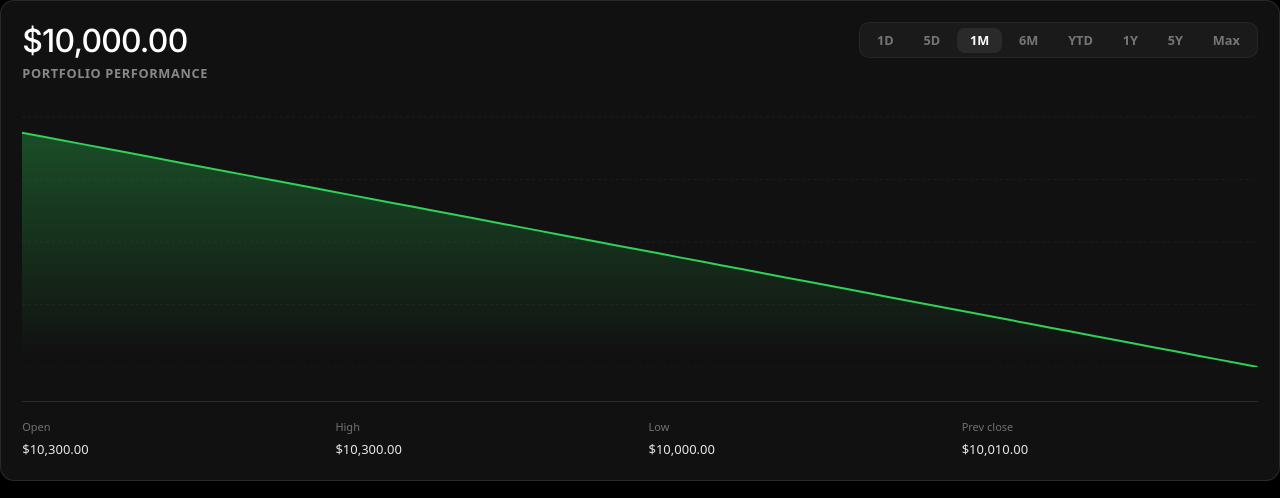
Test: PerformanceChart › filters data based on selected time range
Click the button "Max" at [1226, 40], box x1=1200 y1=28 x2=1252 y2=53
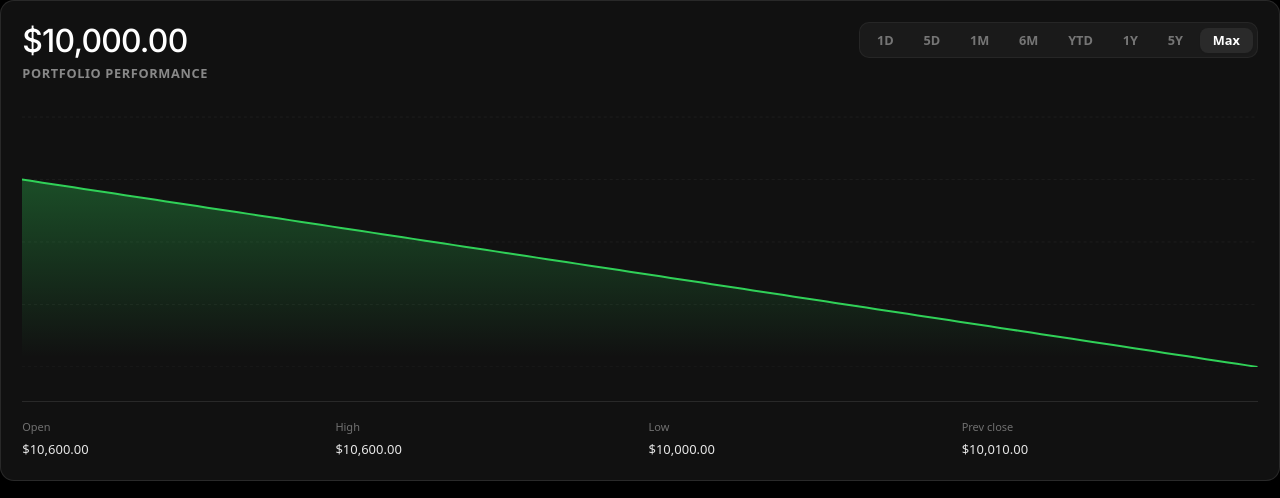
Expected: the 1st text "$10,000.00" is shown, x1=22 y1=22 x2=208 y2=61
Expected: the text "$10,600.00" below "Open" is shown, x1=22 y1=440 x2=89 y2=458
Click the button "1M" at [980, 40], box x1=957 y1=28 x2=1002 y2=53
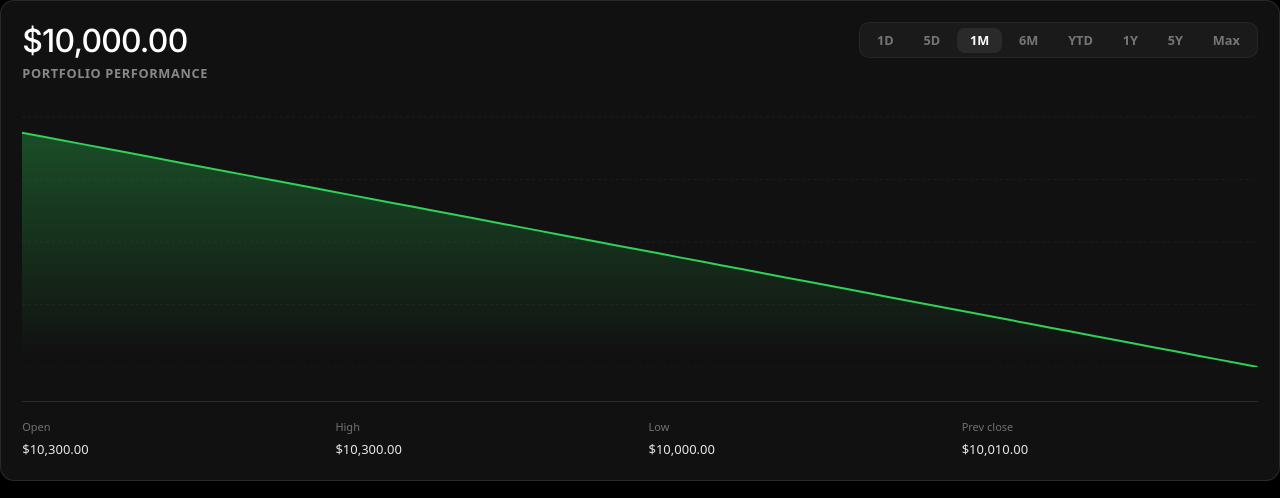
Expected: the 1st text "$10,000.00" is shown, x1=22 y1=22 x2=208 y2=61
Expected: the text "$10,300.00" below "Open" is shown, x1=22 y1=440 x2=89 y2=458
